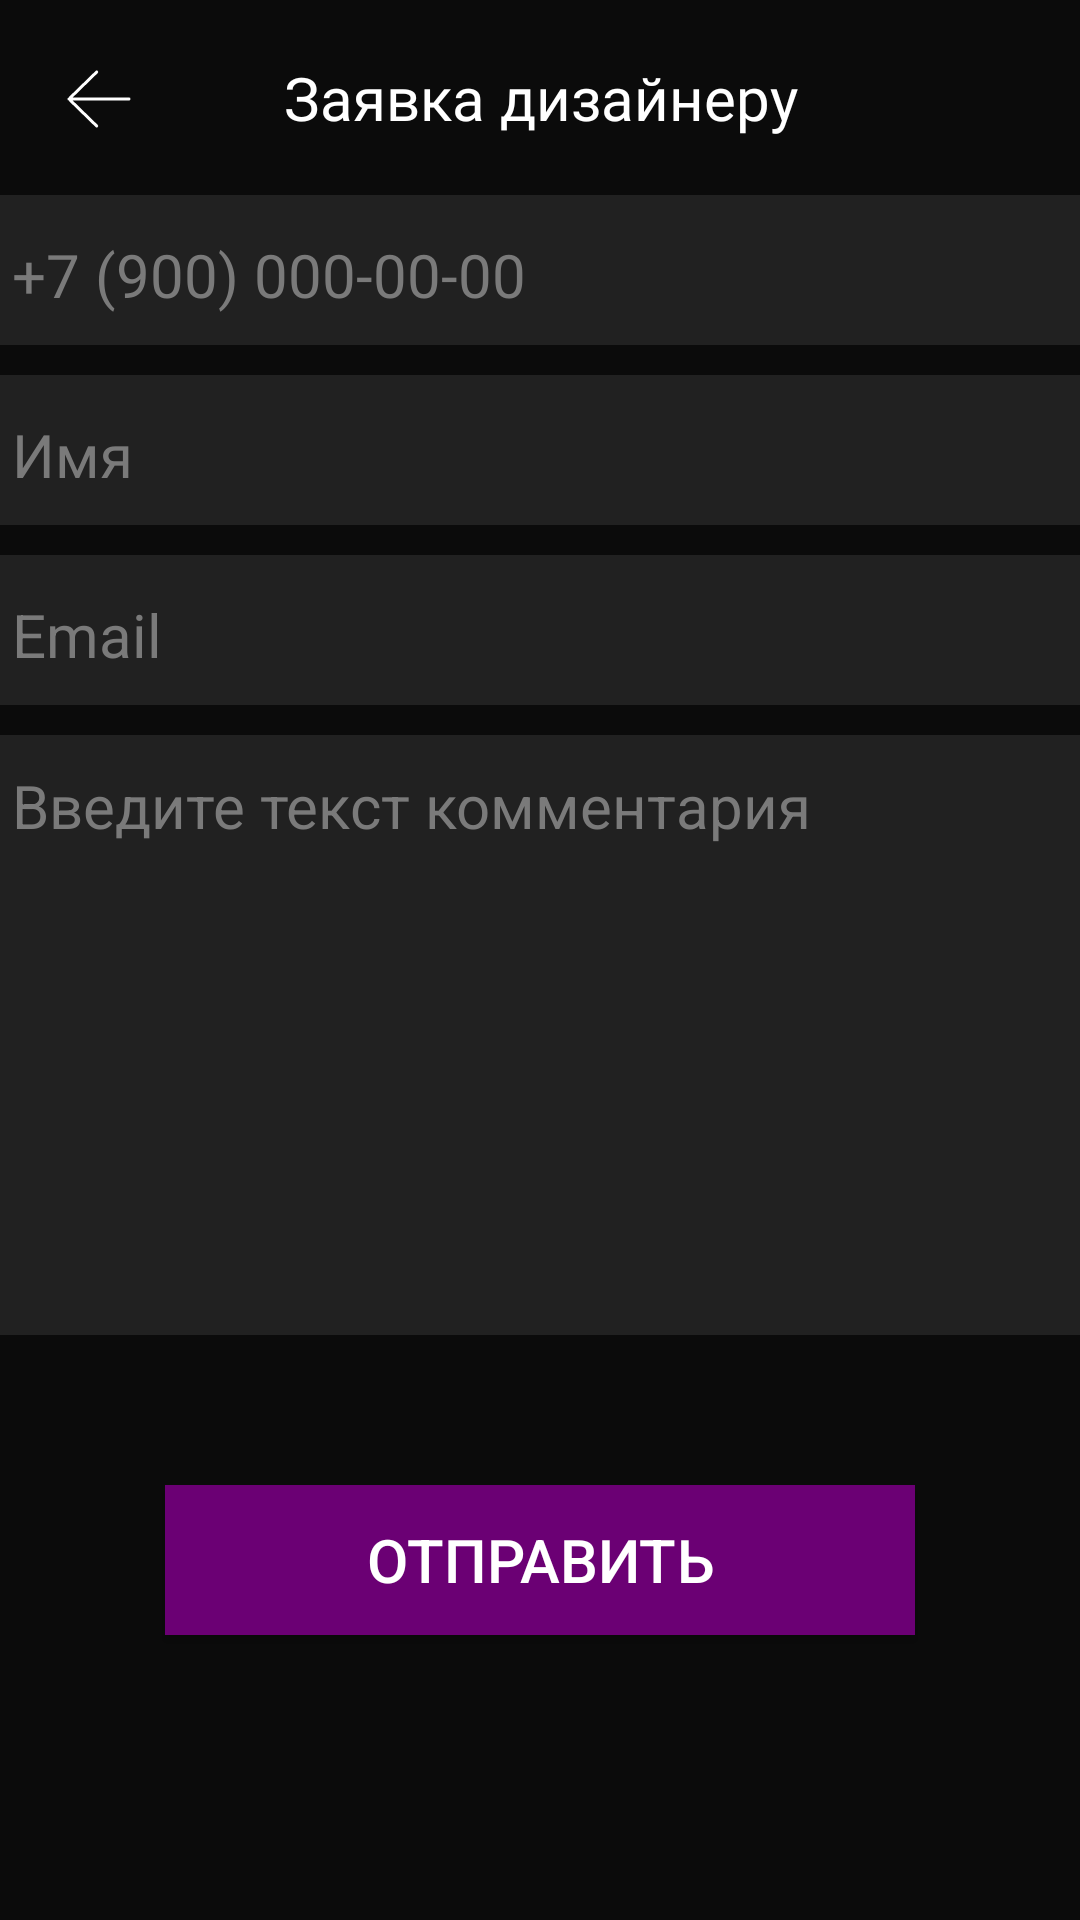

Screen size 1080w x 1920h. Icon name, then its box in pixels as box(x1, y1, x2, y2):
back: box(67, 70, 131, 128)
